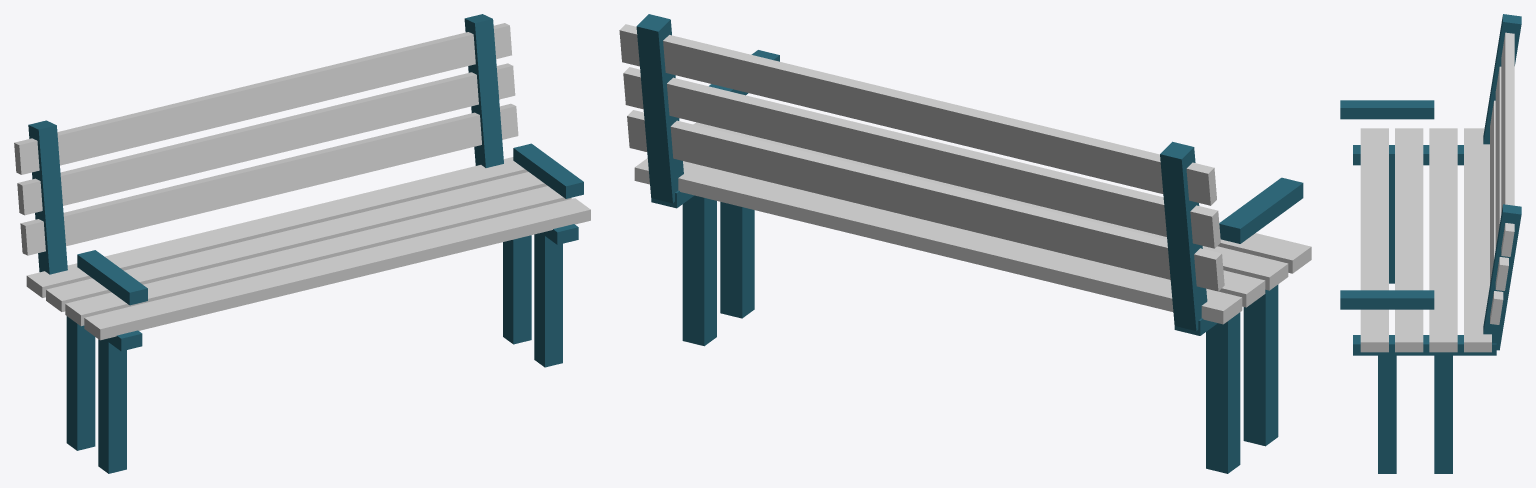
File: decor_bench.obj
3 views of the same model, side by side, from view 1: azimuth 30°, elevation 25°; view 2: azimuth 150°, elevation 25°; view 3: azimuth 270°, elevation 25° (orthographic). The views are drawn at different scales.
Visible parts, largest first — view 1: Body; view 2: Body; view 3: Body.
Part boxes in pixels (x1,y1,x2,y2): Body: (14, 14, 590, 473); Body: (619, 14, 1311, 473); Body: (1340, 14, 1521, 473).
Bounding box in the file's own units: 1.62 × 0.9243 × 0.5797.
